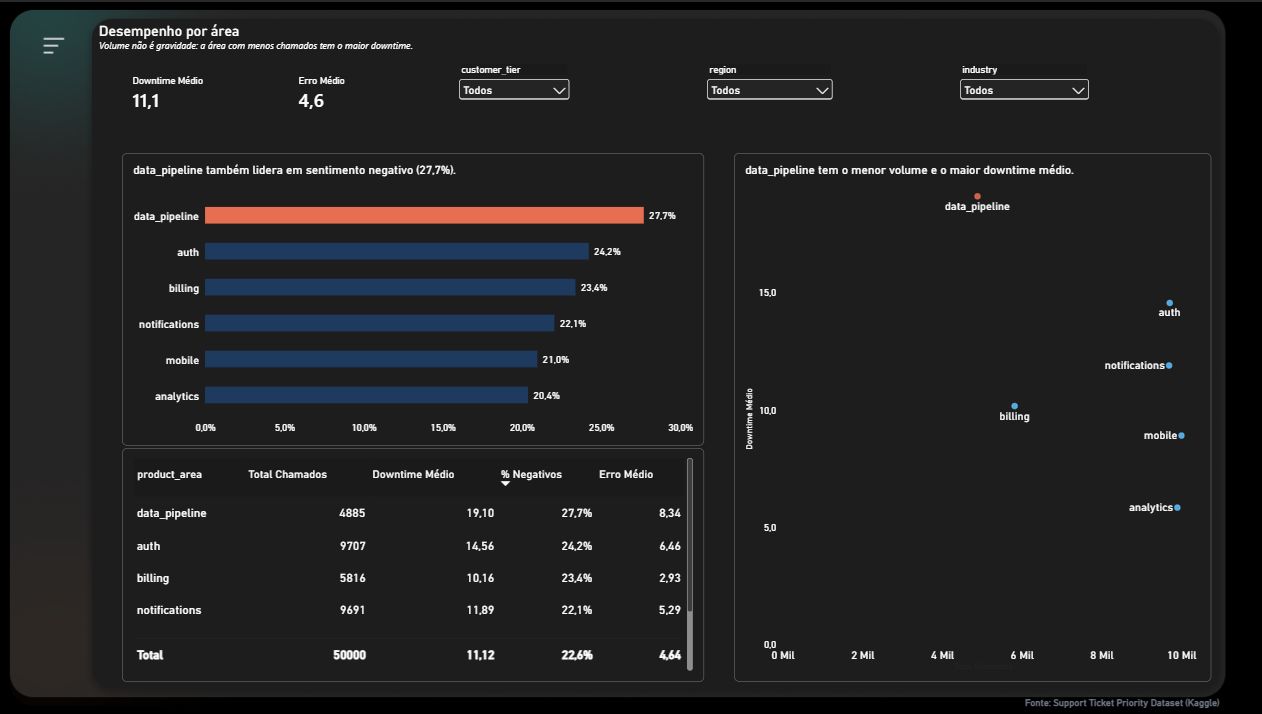

What the dashboard file says about the page in this screenshot:
{"tool":"powerbi","page":{"name":"Área","canvas":[1920,1080],"ordinal":1},"visuals":[{"type":"cardVisual","fields":{"Data":["Medidas.Erro Médio"]},"box":[438.4,69.8,215,140],"z":0},{"type":"cardVisual","fields":{"Data":["Medidas.Downtime Médio"]},"box":[186.6,69.8,215,140],"z":1000},{"type":"scatterChart","title":"data_pipeline tem o menor volume e o maior downtime médio.","fields":{"Category":["Support_tickets.product_area"],"X":["Medidas.Total Chamados"],"Y":["Medidas.Downtime Médio"]},"box":[1114.9,229,723.5,802.4],"z":2000},{"type":"barChart","title":"data_pipeline também lidera em sentimento negativo (27,7%).","fields":{"Category":["Support_tickets.product_area"],"Y":["Medidas.% Negativos"]},"box":[186.6,229,882.8,444.4],"z":3000},{"type":"tableEx","fields":{"Values":["Support_tickets.product_area","Medidas.Total Chamados","Medidas.Downtime Médio","Medidas.% Negativos","Medidas.Erro Médio"]},"box":[186.6,676.5,882.8,354.9],"z":4000},{"type":"textbox","box":[151.7,31.9,787.2,69.8],"z":5000},{"type":"slicer","fields":{"Values":["Support_tickets.customer_tier"]},"box":[693.2,94,177.5,89.5],"z":6000},{"type":"slicer","fields":{"Values":["Support_tickets.industry"]},"box":[1453.1,94,204.8,89.5],"z":7000},{"type":"slicer","fields":{"Values":["Support_tickets.region"]},"box":[1069.4,94,200.2,89.5],"z":8000},{"type":"textbox","box":[1556.3,1052.7,364,27.3],"z":9000},{"type":"actionButton","box":[45.5,31.9,69.8,66.7],"z":9001}]}

Visuals, with their boxes in screenshot pixels (x1, y1, x2, y2), scaled from the page's 1920x1080 canvas onto the 1262x714 screenshot:
cardVisual - Medidas.Erro Médio: bbox=(288, 46, 429, 139)
cardVisual - Medidas.Downtime Médio: bbox=(123, 46, 264, 139)
"data_pipeline tem o menor volume e o maior downtime médio." scatterChart: bbox=(733, 151, 1208, 682)
"data_pipeline também lidera em sentimento negativo (27,7%)." barChart: bbox=(123, 151, 703, 445)
tableEx - Support_tickets.product_area x Medidas.Total Chamados: bbox=(123, 447, 703, 682)
textbox: bbox=(100, 21, 617, 67)
slicer - Support_tickets.customer_tier: bbox=(456, 62, 572, 121)
slicer - Support_tickets.industry: bbox=(955, 62, 1090, 121)
slicer - Support_tickets.region: bbox=(703, 62, 834, 121)
textbox: bbox=(1023, 696, 1261, 713)
actionButton: bbox=(30, 21, 76, 65)
